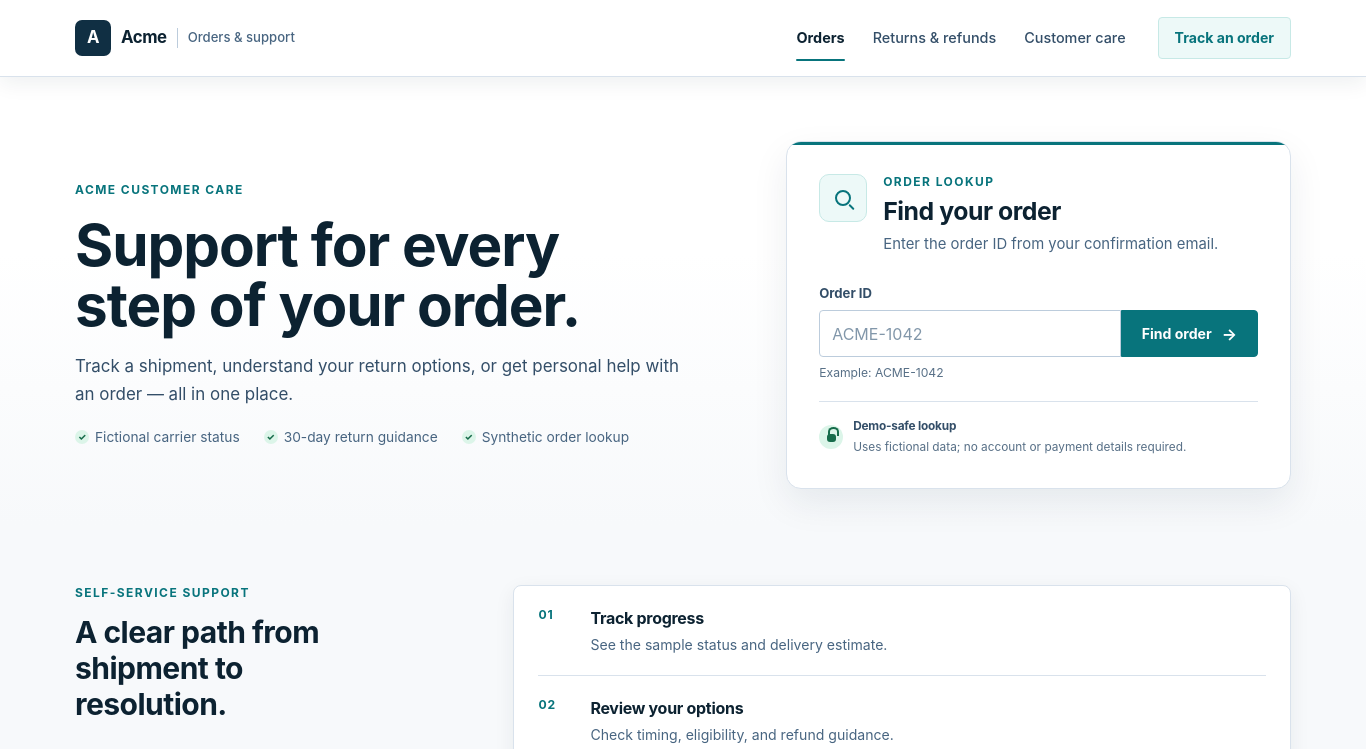
it: SupportPortal customer journey › distinguishes a missing order from a temporarily unavailable service
This screenshot has width=1366, height=749.
Type "ACME-9999" into the field with test id "order-id-input". click: point(970, 334)
box: [819,310,1121,357]
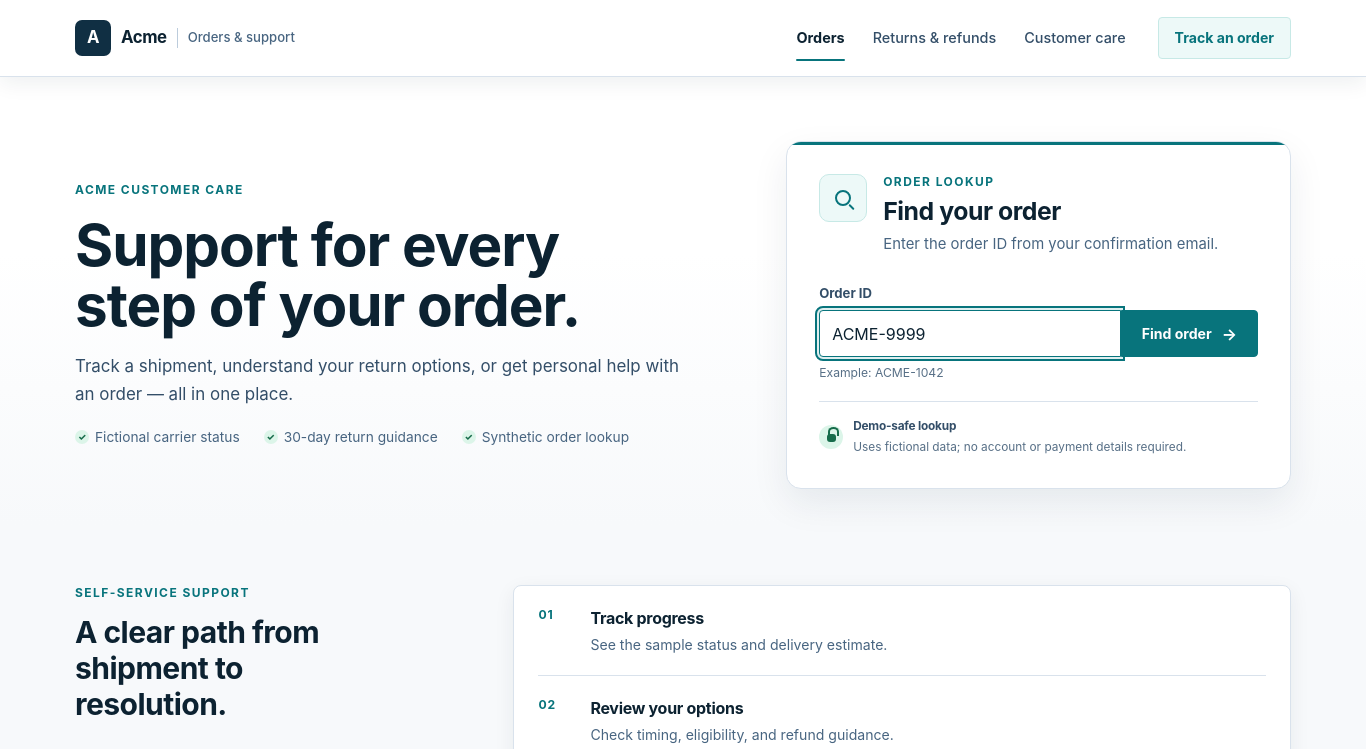
Click the button with test id "order-lookup-button". click: point(1189, 334)
box: [1121,310,1258,357]
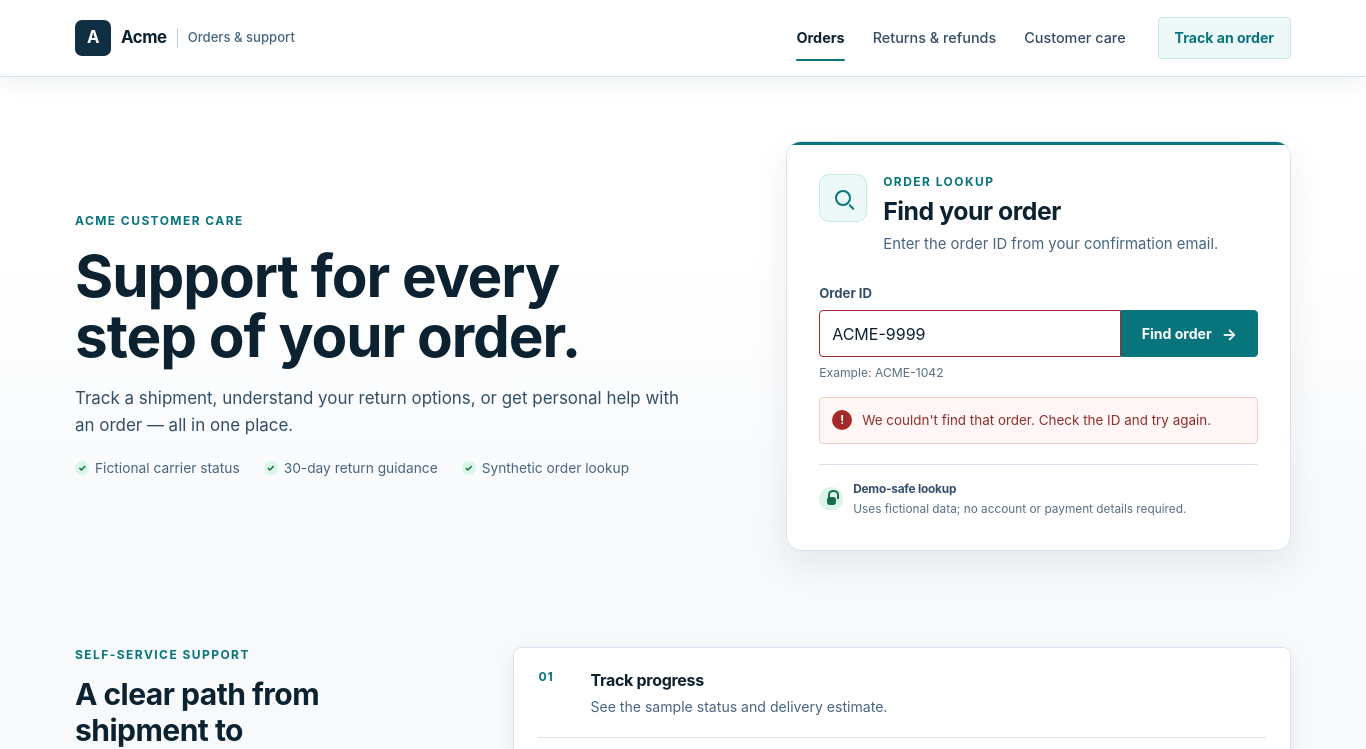
Result: the message with test id "order-lookup-error" shows "couldn't find that order" at [862,412,1211,428]
